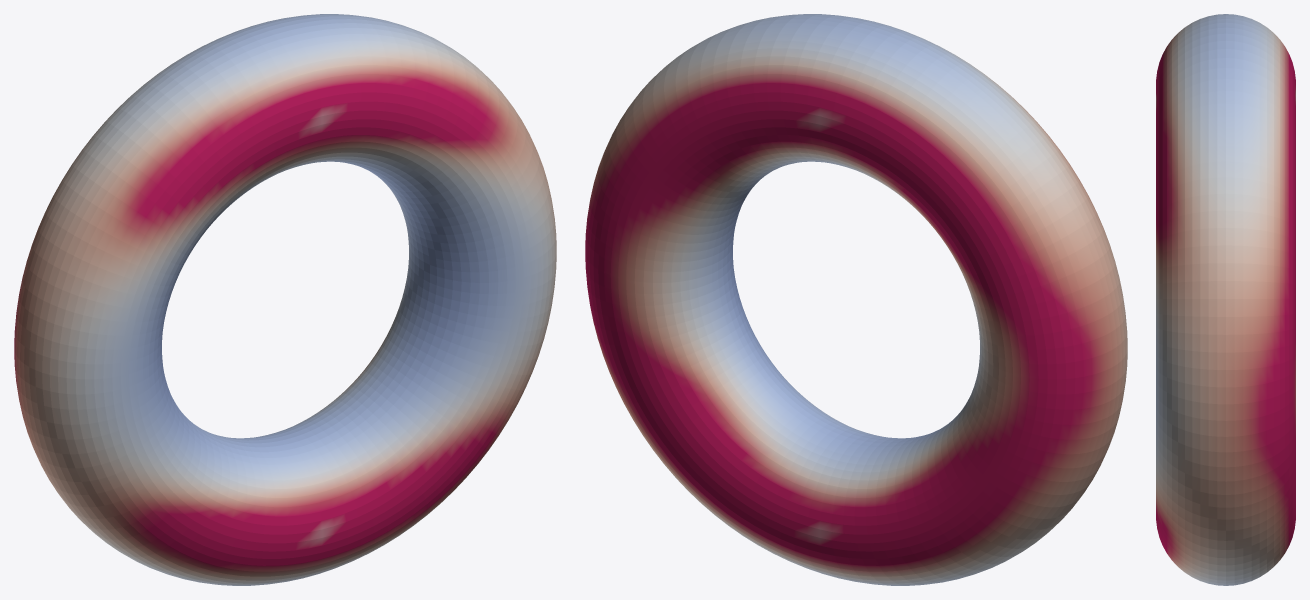
3 renders of one model, left to right at view 1: azimuth 30°, elevation 25°; view 2: azimuth 150°, elevation 25°; view 3: azimuth 270°, elevation 25°, orthographic. The views are drawn at different scales.
Visible parts, largest first — view 1: world; view 2: world; view 3: world.
Part boxes in pixels (x1=…): world: x1=14, y1=14, x2=556, y2=585; world: x1=585, y1=14, x2=1127, y2=585; world: x1=1156, y1=14, x2=1295, y2=585.
Size of the model in its own units: 25.6 by 25.6 by 6.25.
